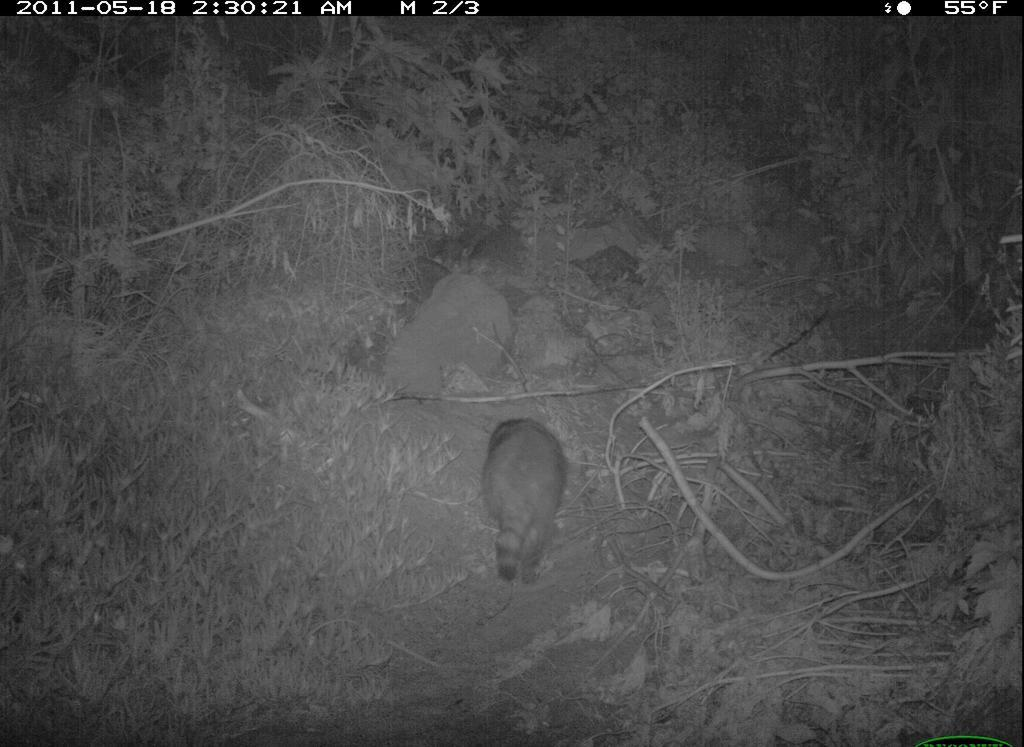raccoon: (460, 413, 573, 583)
